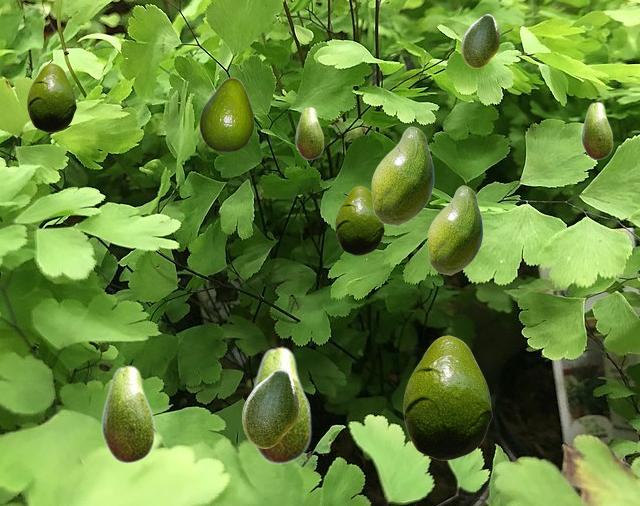avocado: (403, 335, 491, 459), (248, 345, 311, 464), (371, 126, 433, 225), (101, 364, 154, 463), (427, 185, 482, 274), (242, 369, 297, 447), (199, 77, 253, 150), (335, 186, 383, 254), (27, 63, 75, 131), (461, 14, 498, 67), (581, 101, 612, 159), (295, 106, 323, 159)
